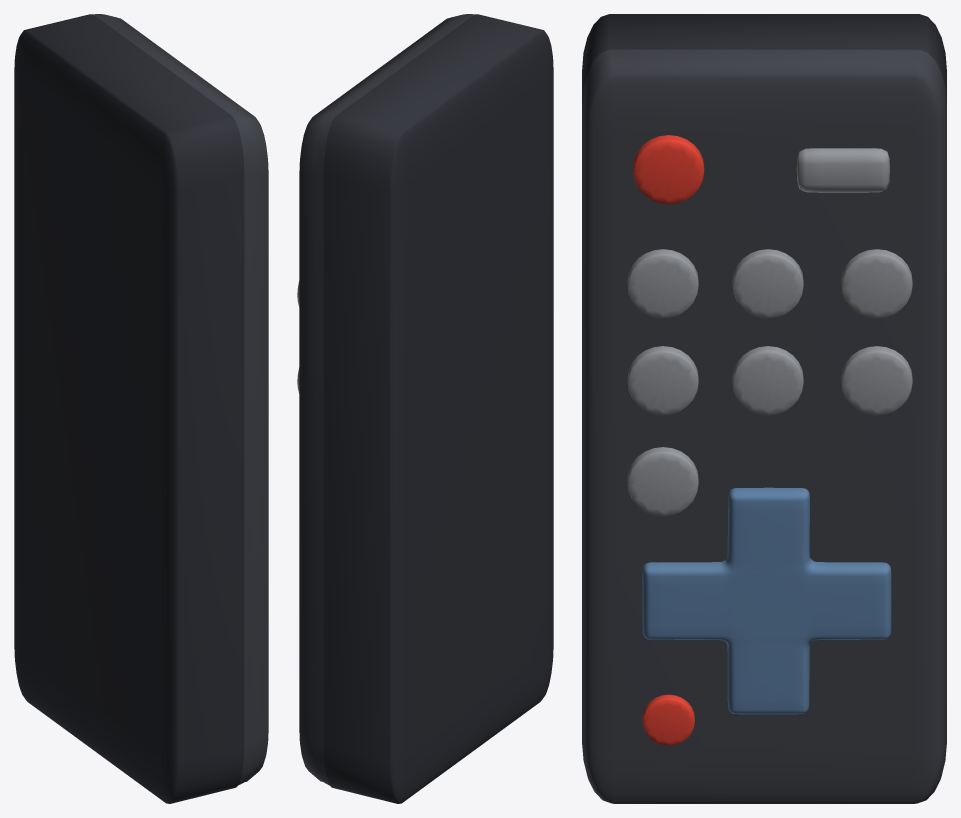
File: remote .fbx
3 views of the same model, side by side, from view 1: azimuth 30°, elevation 25°; view 2: azimuth 150°, elevation 25°; view 3: azimuth 270°, elevation 25° (orthographic). The views are drawn at different scales.
Parts seen in each view (by area): view 1: Cube; view 2: Cube; view 3: Cube, Plane, Cylinder.013, Plane.001, Cylinder, Cylinder.004.
Part boxes in pixels (x1,y1,x2,y2): Cube: (14,14,268,803); Cube: (299,14,553,803); Cube: (582,14,946,803); Plane: (642,487,891,714); Cylinder.013: (627,249,912,516); Plane.001: (796,148,889,192); Cylinder: (633,135,704,204); Cylinder.004: (642,694,694,745).
Bounding box in the file's own units: 81.06 × 452 × 199.
